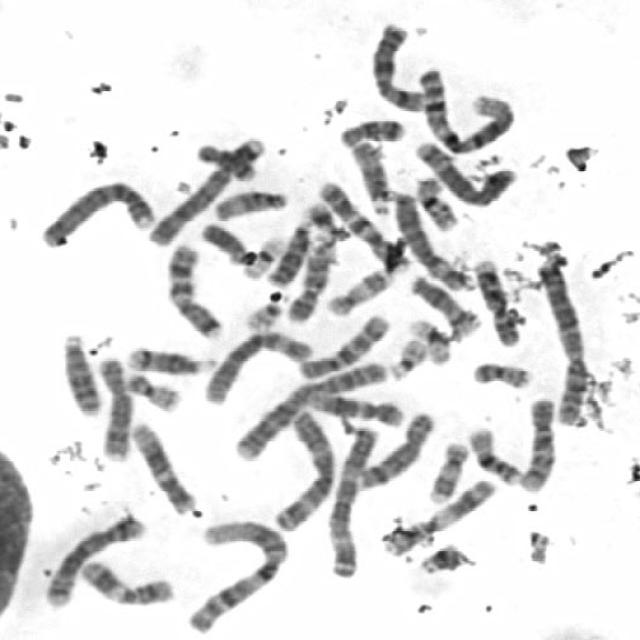A1: (180, 514, 292, 634), (411, 61, 519, 156)
A2: (228, 356, 390, 462), (532, 254, 593, 428)
A3: (321, 420, 382, 580), (270, 403, 340, 532)
B4: (144, 130, 268, 248), (34, 173, 158, 250)
B5: (38, 507, 148, 610), (411, 134, 520, 208)
C10: (292, 308, 394, 380), (514, 390, 559, 494)
C11: (377, 472, 500, 557), (75, 554, 178, 608)
C12: (126, 416, 200, 516), (304, 386, 409, 428)
C6: (385, 184, 476, 294), (197, 323, 314, 407)
C7: (313, 175, 412, 274), (159, 236, 228, 340)
C8: (355, 406, 439, 491), (89, 350, 135, 462)
C9: (467, 251, 524, 348), (282, 234, 340, 324)
D13: (56, 326, 104, 416), (262, 214, 316, 289)
D14: (402, 269, 480, 338), (121, 339, 217, 377)
D15: (346, 134, 395, 216), (208, 184, 292, 222)
E16: (463, 420, 527, 487), (408, 170, 461, 232)
E17: (319, 262, 396, 318), (424, 436, 472, 506)
E18: (192, 139, 260, 182), (334, 112, 408, 148)
F19: (402, 313, 456, 367), (236, 230, 288, 280)
F20: (119, 364, 184, 414), (466, 356, 536, 390)
G21: (413, 538, 471, 576), (300, 197, 341, 236)
G22: (384, 332, 430, 381), (239, 296, 285, 331)
X: (365, 16, 430, 114)
Y: (193, 216, 254, 264)
